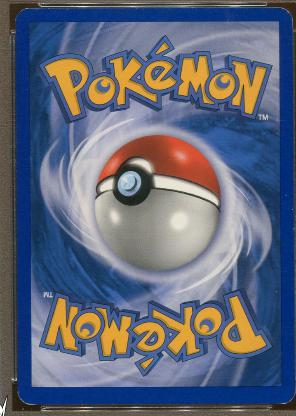Card: (12, 4, 294, 406)
Corner Wear: (277, 6, 293, 28), (272, 389, 293, 405), (17, 389, 37, 405), (14, 5, 26, 22)
Edge Wear: (291, 224, 293, 235)
Scratch: (289, 207, 292, 211), (284, 194, 287, 196)
